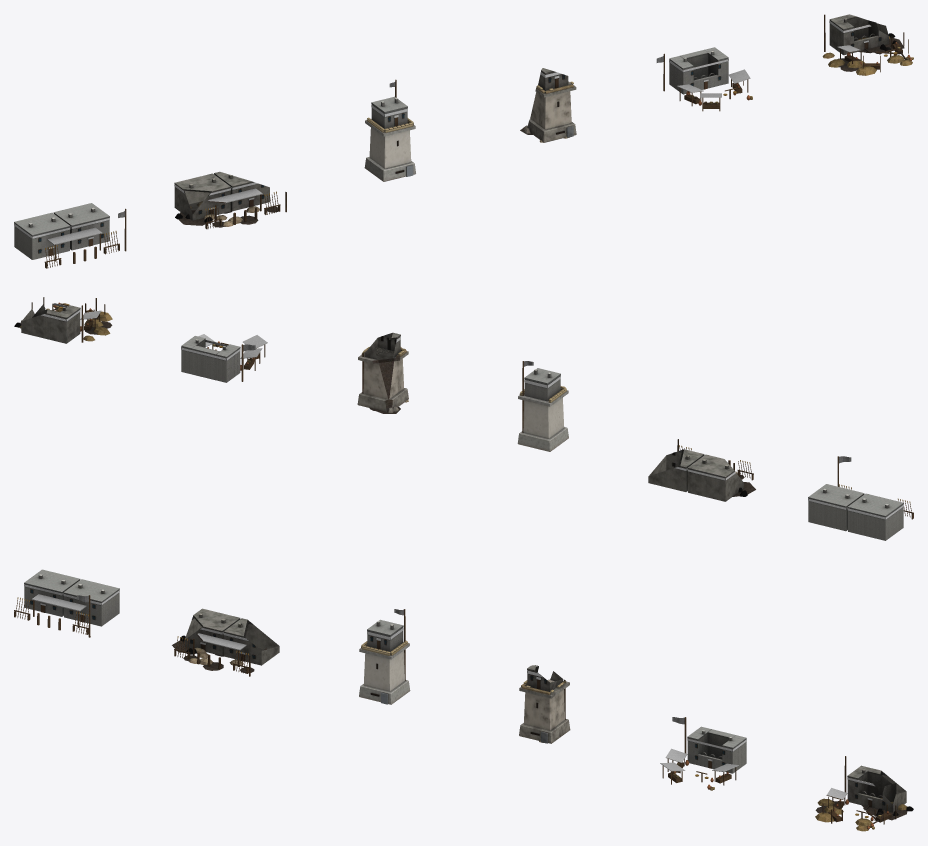
Rendered from rts-modern-maghreb.glb.
3 views of the same model, one above another, from view 1: azimuth 30°, elevation 25°; view 2: azimuth 150°, elevation 25°; view 3: azimuth 330°, elevation 25° (orthographic).
Parts seen in each view (by area): view 1: LOD0, LOD0.001, LOD0.002, LOD0.005, LOD0.004, LOD0.003; view 2: LOD0, LOD0.001, LOD0.002, LOD0.003, LOD0.004, LOD0.005; view 3: LOD0.001, LOD0, LOD0.005, LOD0.002, LOD0.004, LOD0.003.
Part boxes in pixels (bbox=[...]): LOD0: bbox=[14, 203, 126, 268]; LOD0.001: bbox=[174, 171, 286, 229]; LOD0.002: bbox=[364, 79, 415, 181]; LOD0.005: bbox=[822, 14, 913, 75]; LOD0.004: bbox=[656, 47, 752, 111]; LOD0.003: bbox=[520, 68, 576, 142]; LOD0: bbox=[808, 456, 913, 540]; LOD0.001: bbox=[648, 439, 755, 501]; LOD0.002: bbox=[517, 361, 568, 451]; LOD0.003: bbox=[357, 332, 408, 413]; LOD0.004: bbox=[181, 334, 267, 382]; LOD0.005: bbox=[14, 297, 112, 343]; LOD0.001: bbox=[172, 608, 279, 676]; LOD0: bbox=[14, 569, 119, 637]; LOD0.005: bbox=[815, 756, 913, 831]; LOD0.002: bbox=[359, 609, 410, 704]; LOD0.004: bbox=[660, 717, 746, 790]; LOD0.003: bbox=[519, 665, 570, 743].
Size of what is drawn, in the model's own units: 16.4 by 1.48 by 1.36.
Materials: 2 (2 with a texture image).
